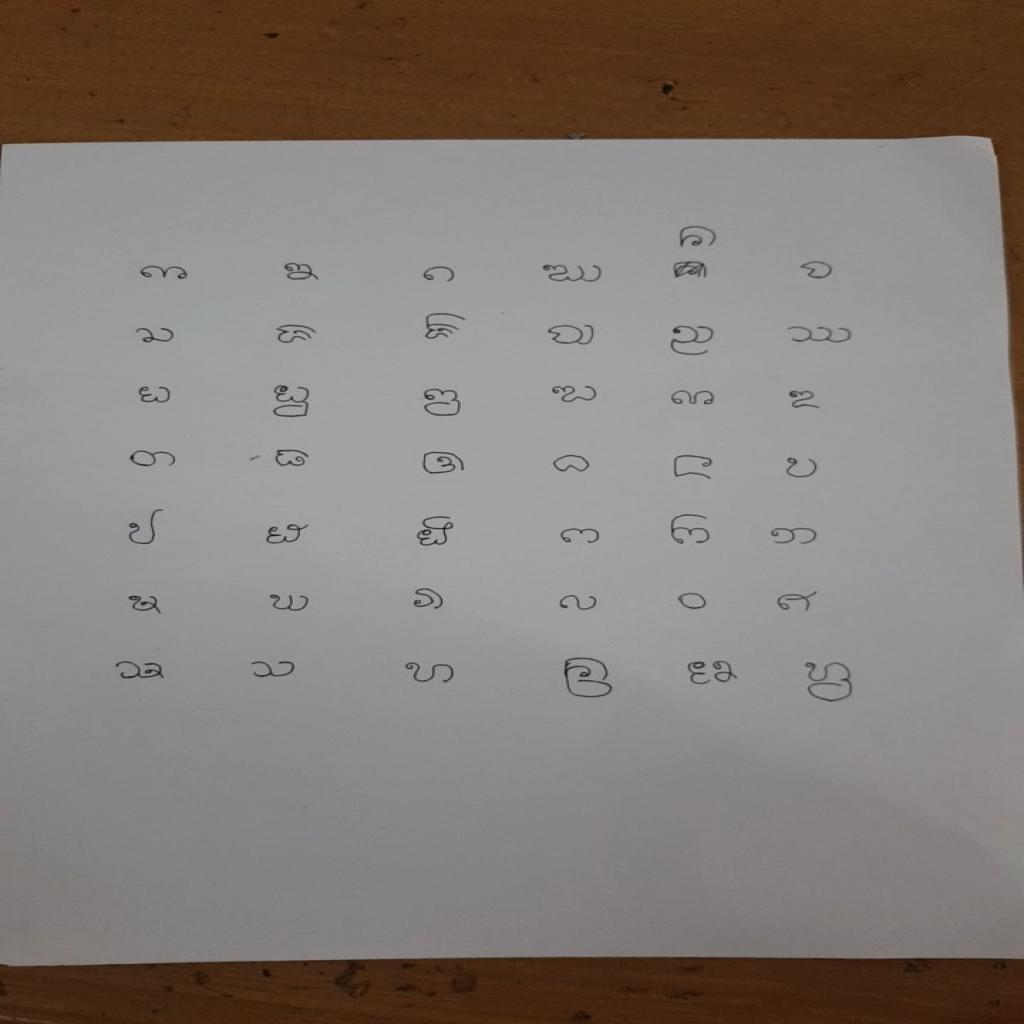LN001: (137, 265, 192, 283)
LN002: (282, 262, 324, 284)
LN003: (421, 265, 459, 285)
LN004: (540, 264, 607, 285)
LN005: (676, 224, 721, 250)
LN006: (797, 260, 837, 282)
LN007: (132, 327, 179, 347)
LN008: (273, 323, 320, 346)
LN009: (423, 312, 470, 342)
LN010: (545, 323, 599, 348)
LN011: (669, 324, 720, 359)
LN012: (785, 325, 857, 346)
LN013: (137, 386, 174, 406)
LN014: (271, 385, 315, 421)
LN015: (420, 388, 466, 419)
LN016: (548, 384, 602, 406)
LN017: (669, 389, 720, 408)
LN018: (784, 389, 826, 412)
LN019: (126, 448, 183, 471)
LN020: (271, 448, 315, 470)
LN021: (418, 449, 470, 478)
LN022: (551, 454, 595, 475)
LN023: (670, 453, 718, 483)
LN024: (783, 456, 823, 481)
LN025: (126, 507, 167, 548)
LN026: (264, 523, 313, 547)
LN027: (415, 516, 457, 549)
LN028: (556, 527, 606, 548)
LN029: (667, 513, 715, 549)
LN030: (768, 526, 823, 548)
LN031: (125, 594, 165, 618)
LN032: (266, 593, 316, 615)
LN033: (409, 586, 449, 613)
LN034: (557, 593, 604, 614)
LN035: (675, 591, 712, 613)
LN036: (773, 589, 822, 615)
LN037: (112, 660, 170, 683)
LN038: (247, 659, 302, 682)
LN039: (401, 661, 463, 688)
LN040: (560, 656, 618, 701)
LN041: (684, 659, 742, 688)
LN042: (801, 662, 860, 706)
